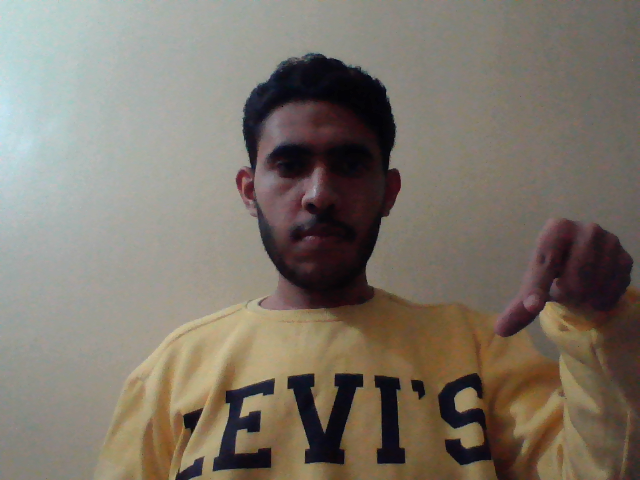Q: (499, 221, 637, 342)
